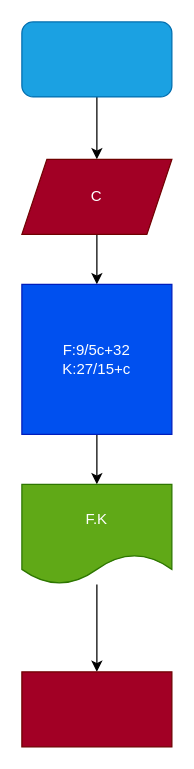
Some shapes in this 194 by 769 pixel diagram are drawn without their labels. The shapes that lost their labels are listed below. From the top down, each one's box as (x1, y1, x2, y2) in pixels, then its label:
(21, 21, 172, 97): INICIO
(21, 671, 172, 747): FIN
